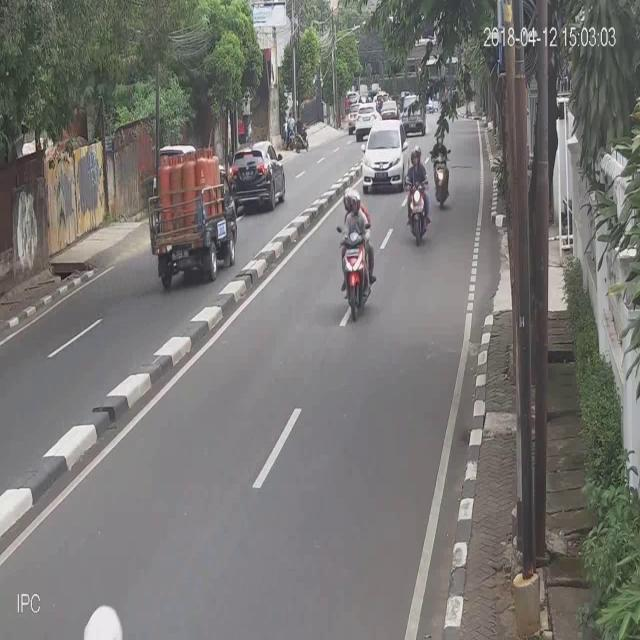bus: (338, 191, 372, 322), (404, 145, 432, 247), (431, 132, 451, 210)
motorcycle: (232, 138, 287, 212), (362, 119, 412, 195), (401, 94, 429, 137), (355, 100, 371, 148)
truck: (146, 165, 242, 279)
